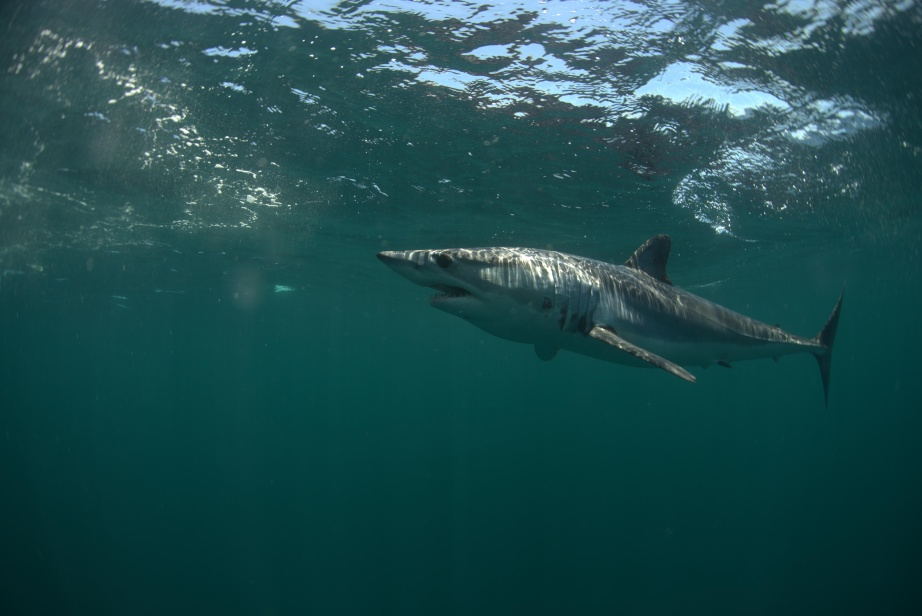Mako: (353, 218, 862, 432)
